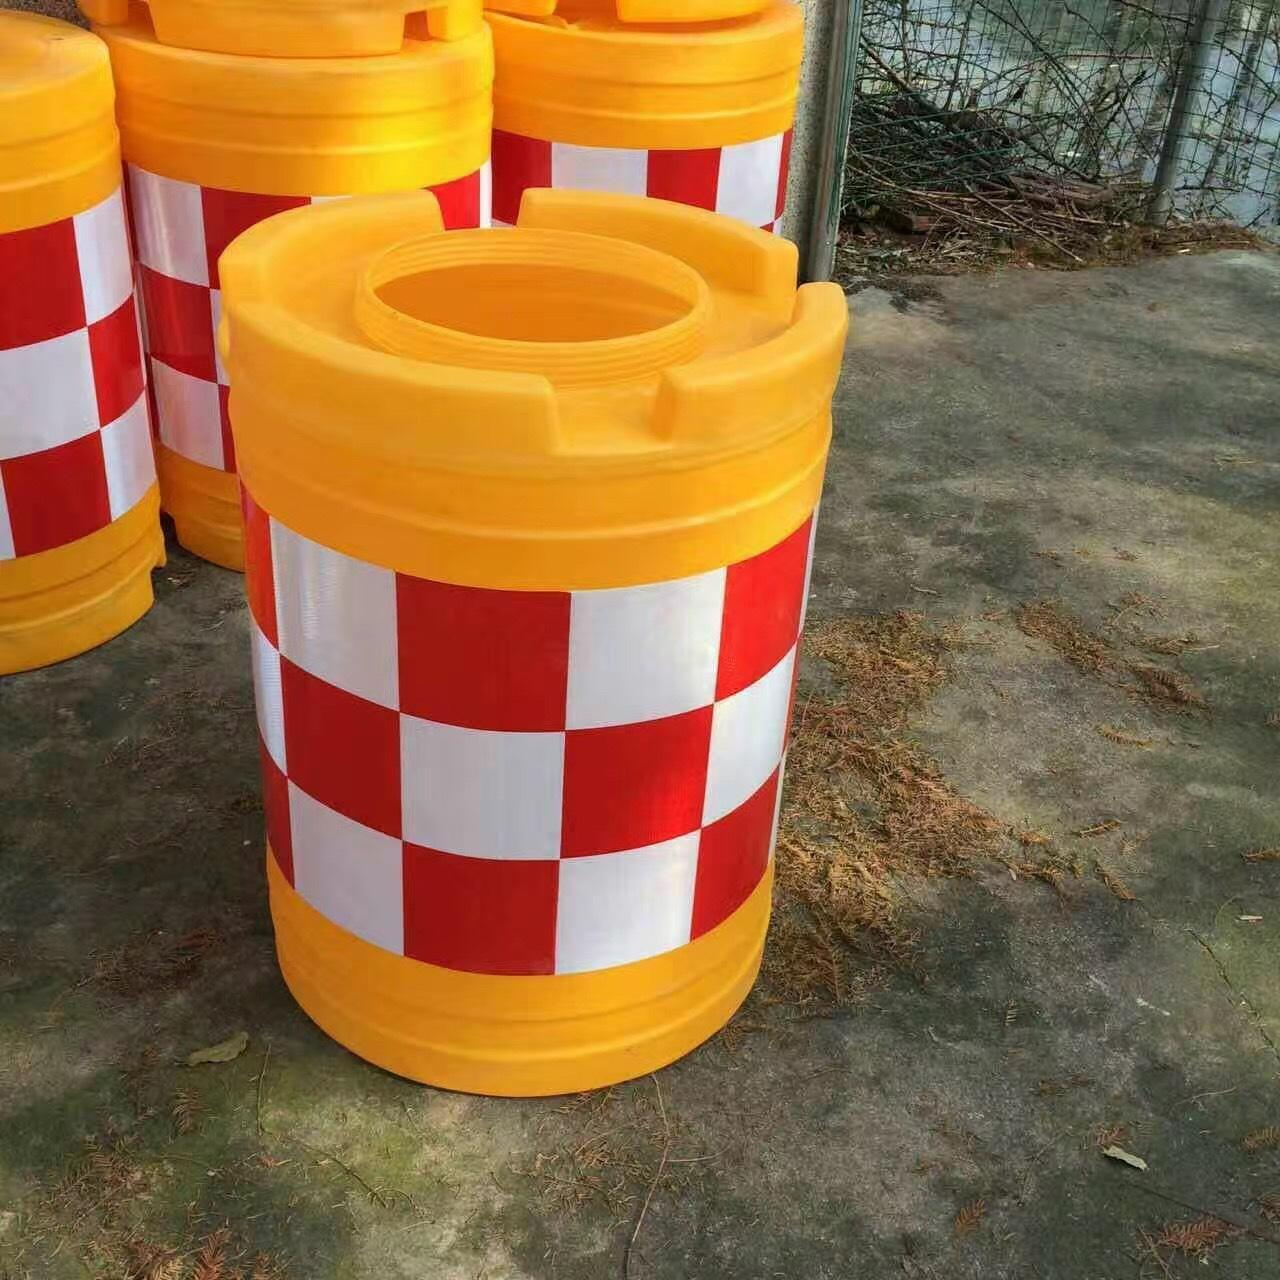sign: (188, 185, 847, 1099)
